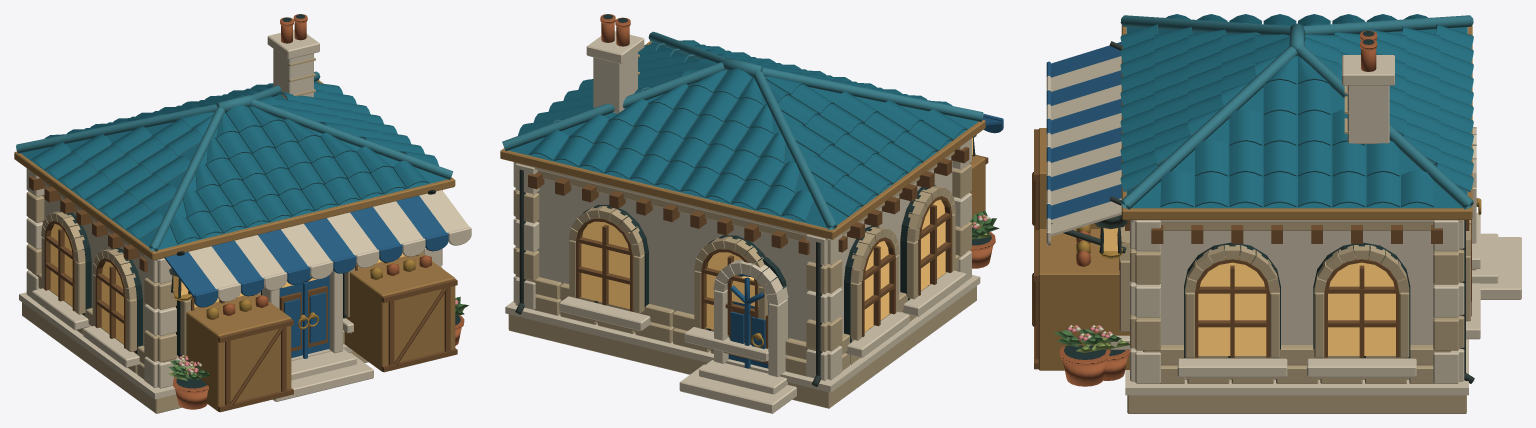
The picture shows the model from 3 angles, left to right: view 1: azimuth 30°, elevation 25°; view 2: azimuth 150°, elevation 25°; view 3: azimuth 270°, elevation 25°; orthographic projection. The views are drawn at different scales.
Parts seen in each view (by area): view 1: harbor_shop_1_geometry; view 2: harbor_shop_1_geometry; view 3: harbor_shop_1_geometry.
Part boxes in pixels (box(x1,y1,x2,y2)): harbor_shop_1_geometry: box(14, 14, 471, 413); harbor_shop_1_geometry: box(500, 14, 1003, 413); harbor_shop_1_geometry: box(1032, 14, 1521, 413).
Size of the model in its own units: 0.9195 by 0.7604 by 0.99.
